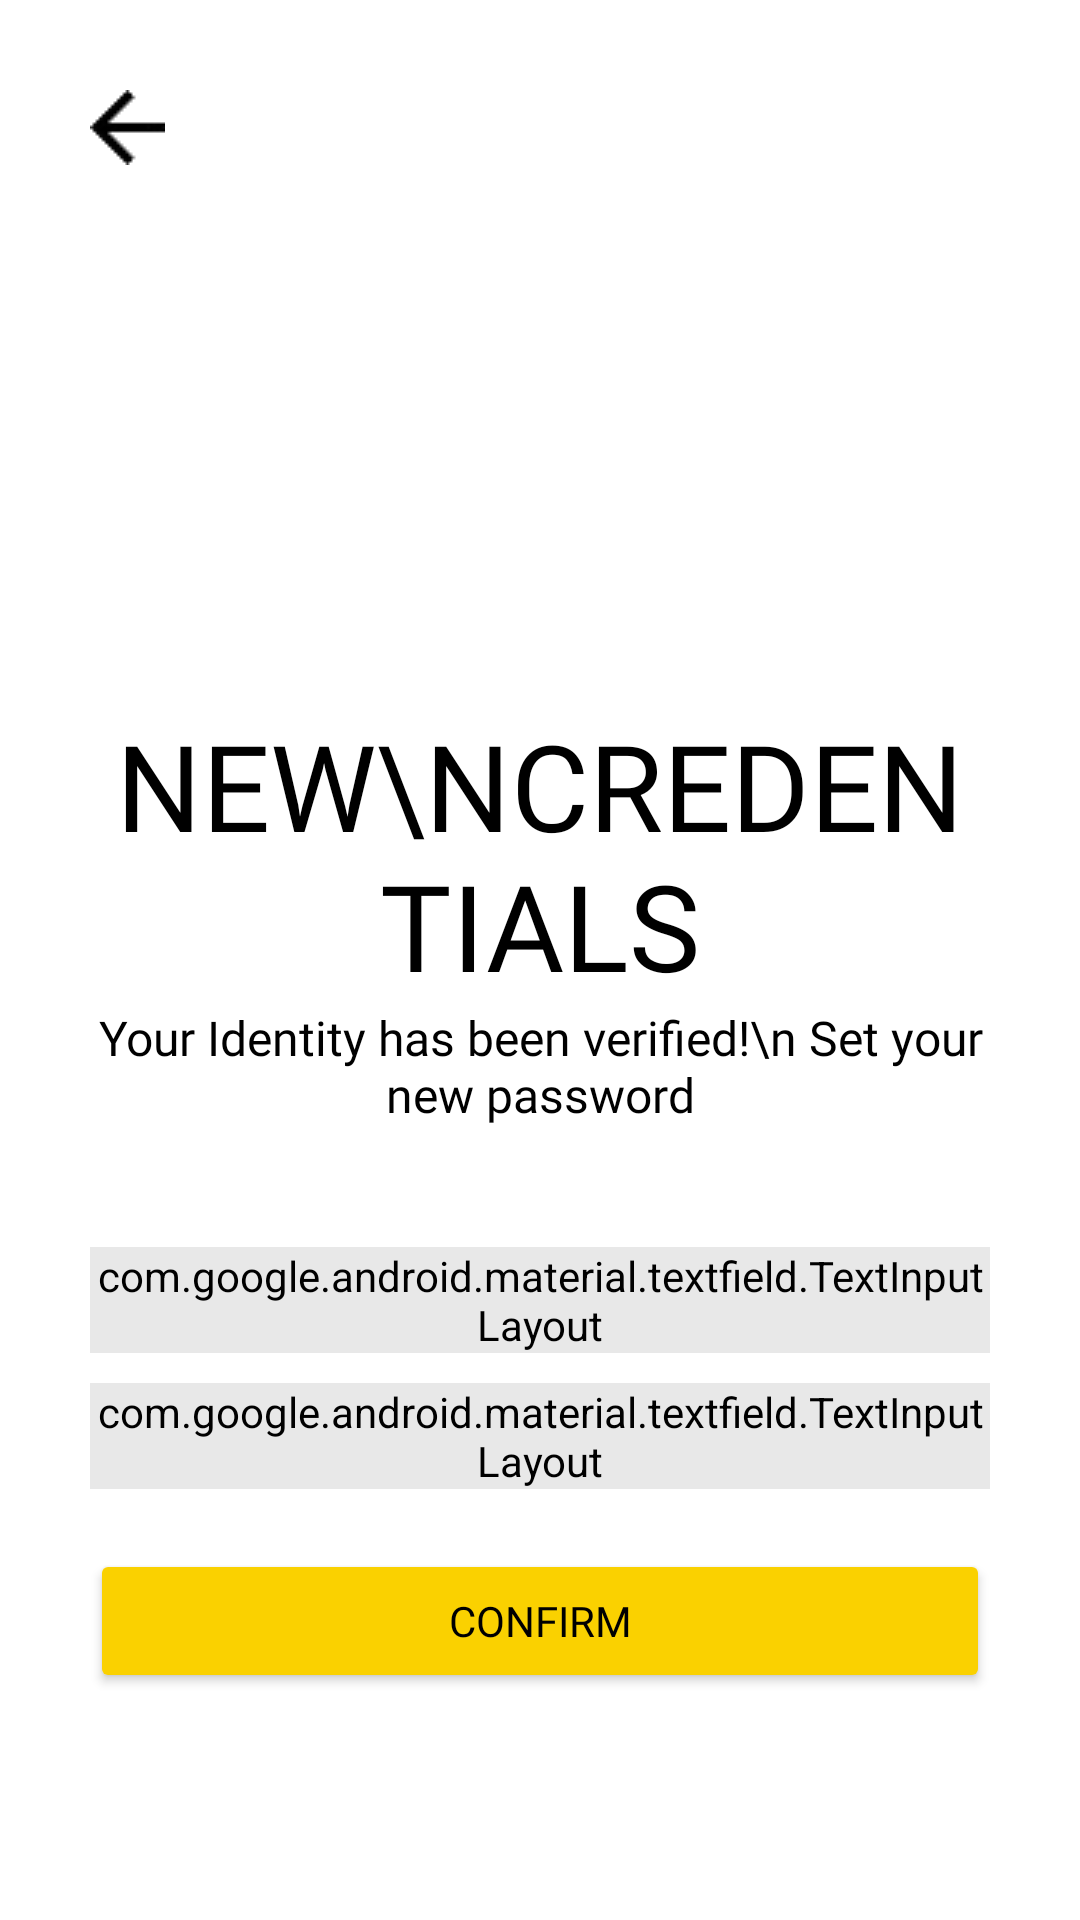

Named icons in this screenshot (1080 × 1920) and their centers, (x,y):
general back: (127,127)
